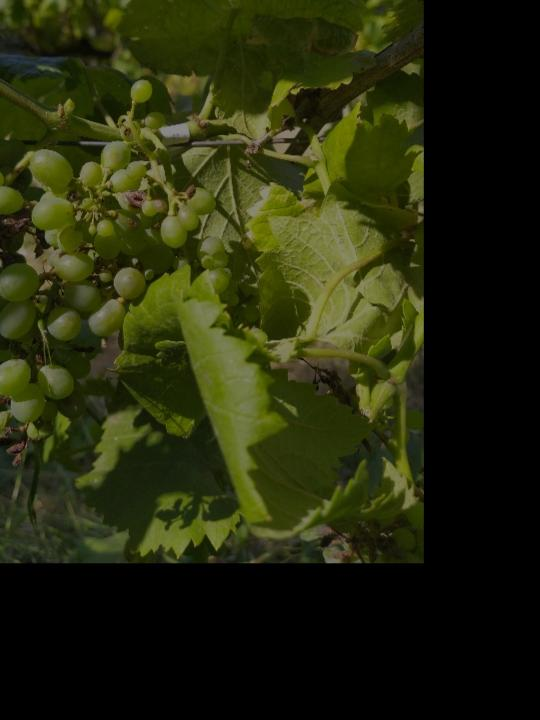grape: (0, 76, 220, 470)
